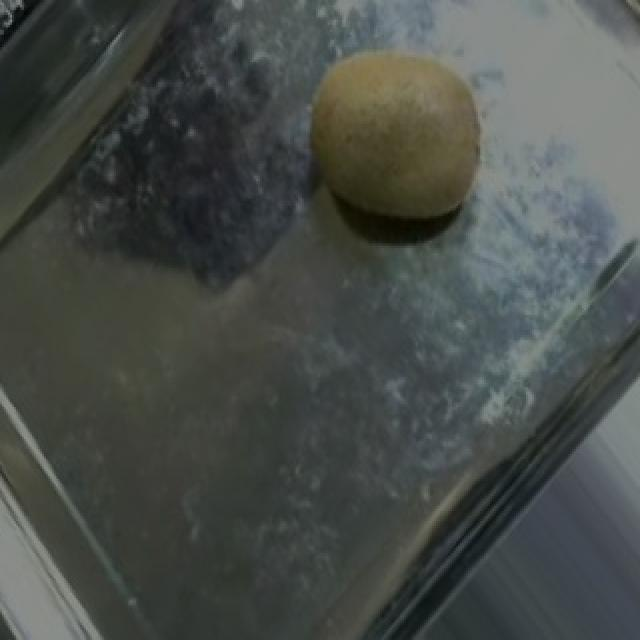Fruit: (268, 10, 528, 270)
